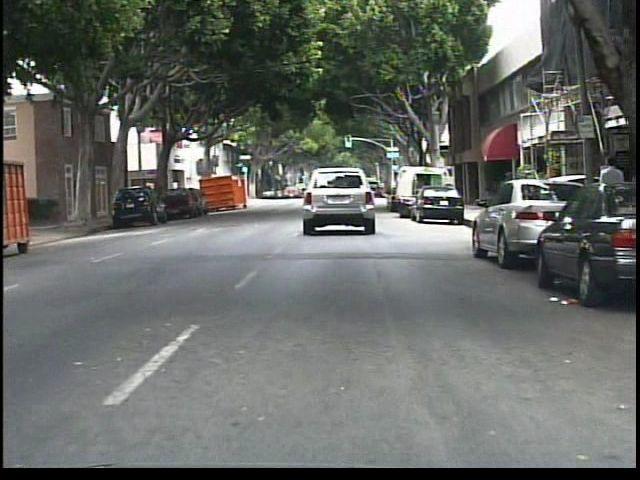person: (592, 150, 630, 248)
